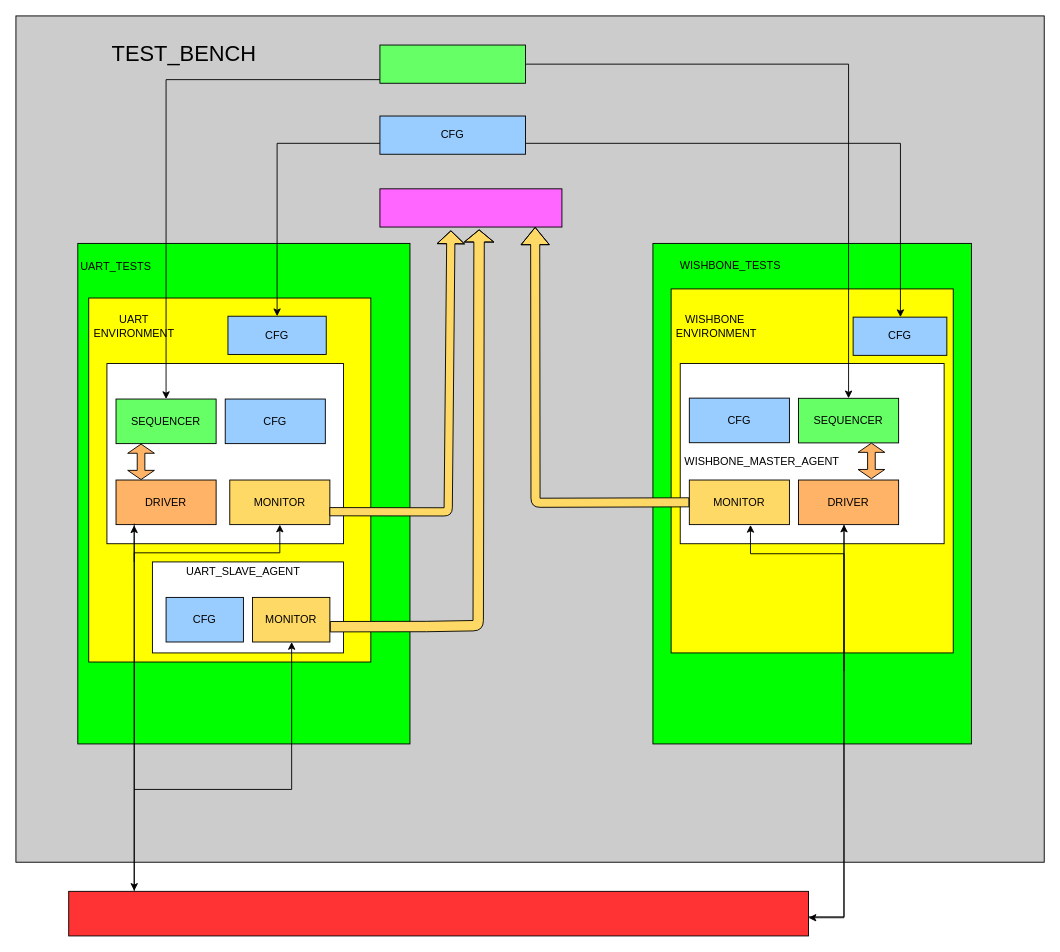
The diagram is 1060 pixels wide and 952 high, and some of its shapes have lost their labels. Here are the shapes that lost their labels. From the top down, the box of each, then its label:
(379, 44, 526, 83): VIRTUAL SEQUENER
(379, 188, 562, 227): SCOREBOARD
(106, 363, 344, 544): UART_MASSTER_AGENT
(68, 890, 809, 936): WISHBONE2UART
